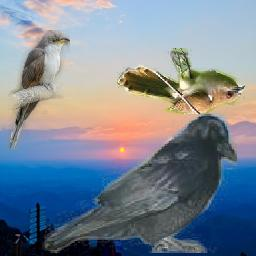Crow: (43, 111, 238, 253)
Cuckoo: (117, 48, 245, 114), (8, 31, 70, 150)
